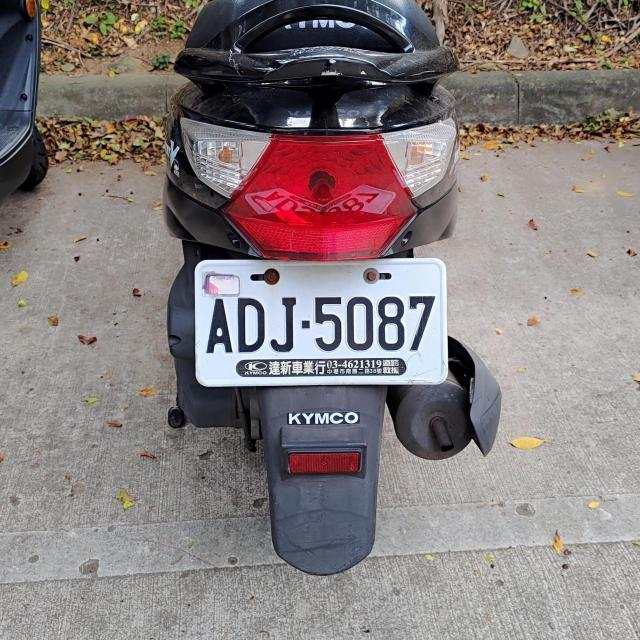W: (193, 253, 448, 386)
